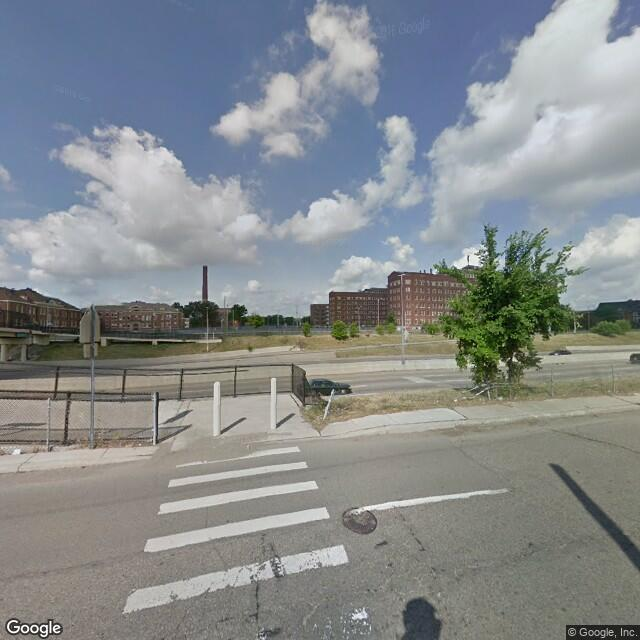litter: (13, 446, 21, 454), (497, 396, 503, 400), (453, 398, 459, 401)
